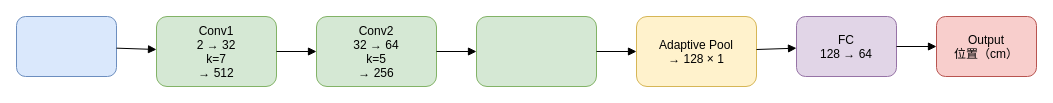
Some shapes in this 1053 by 103 pixel diagram are drawn without their labels. The shapes that lost their labels are listed below. From the top down, each one's box as (x1, y1, x2, y2) in pixels, then its label:
(16, 16, 116, 76): Input 2 × 1024
(476, 16, 596, 86): Conv3 64 → 128 k=3 → 128
